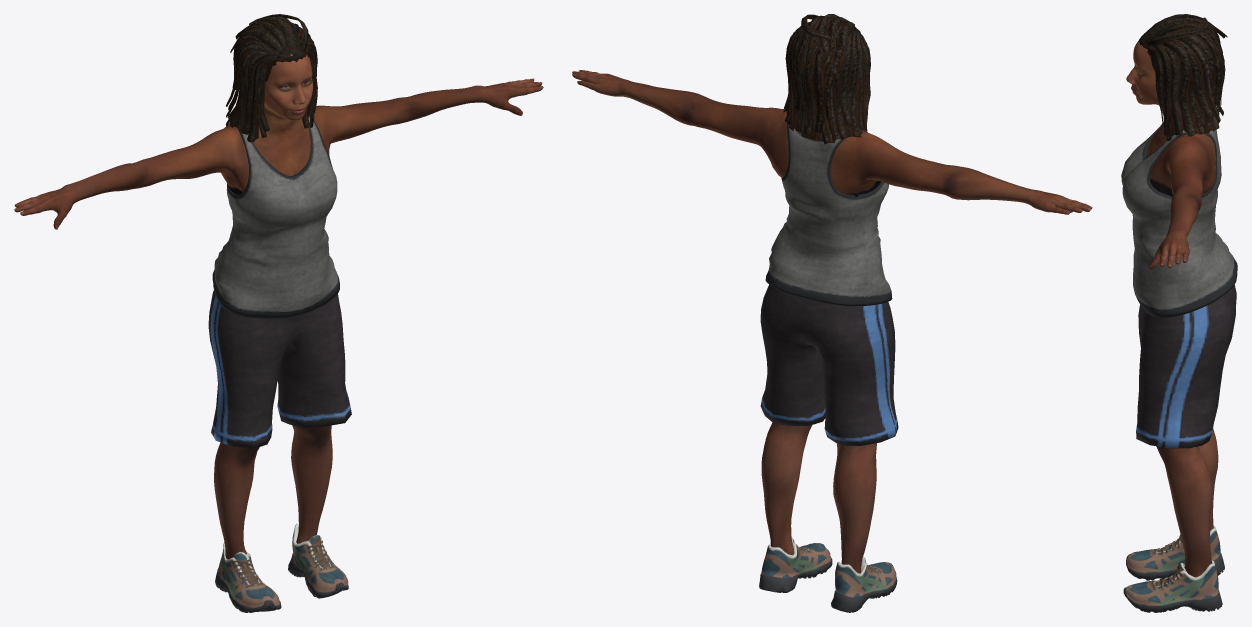
File: woman01.obj
3 renders of one model, left to right at view 1: azimuth 30°, elevation 25°; view 2: azimuth 150°, elevation 25°; view 3: azimuth 270°, elevation 25°, orthographic.
Parts seen in each view (by area): view 1: Body, Tops, Bottoms, Hair, Shoes; view 2: Body, Bottoms, Tops, Hair, Shoes; view 3: Body, Bottoms, Tops, Hair, Shoes.
Boxes of the visible parts, x1,y1,x2,y2 form: Body: [14, 54, 543, 559]; Tops: [212, 116, 339, 318]; Bottoms: [208, 290, 351, 448]; Hair: [225, 14, 317, 142]; Shoes: [215, 523, 348, 612]; Body: [572, 70, 1092, 573]; Bottoms: [760, 284, 898, 445]; Tops: [765, 123, 892, 306]; Hair: [783, 14, 870, 144]; Shoes: [759, 538, 897, 612]; Body: [1126, 35, 1218, 577]; Bottoms: [1136, 285, 1236, 448]; Tops: [1121, 122, 1237, 317]; Hair: [1138, 14, 1227, 141]; Shoes: [1123, 525, 1224, 612].
Size of the model in its own units: 163 by 170 by 31.33.
1 material, 1 textured.
